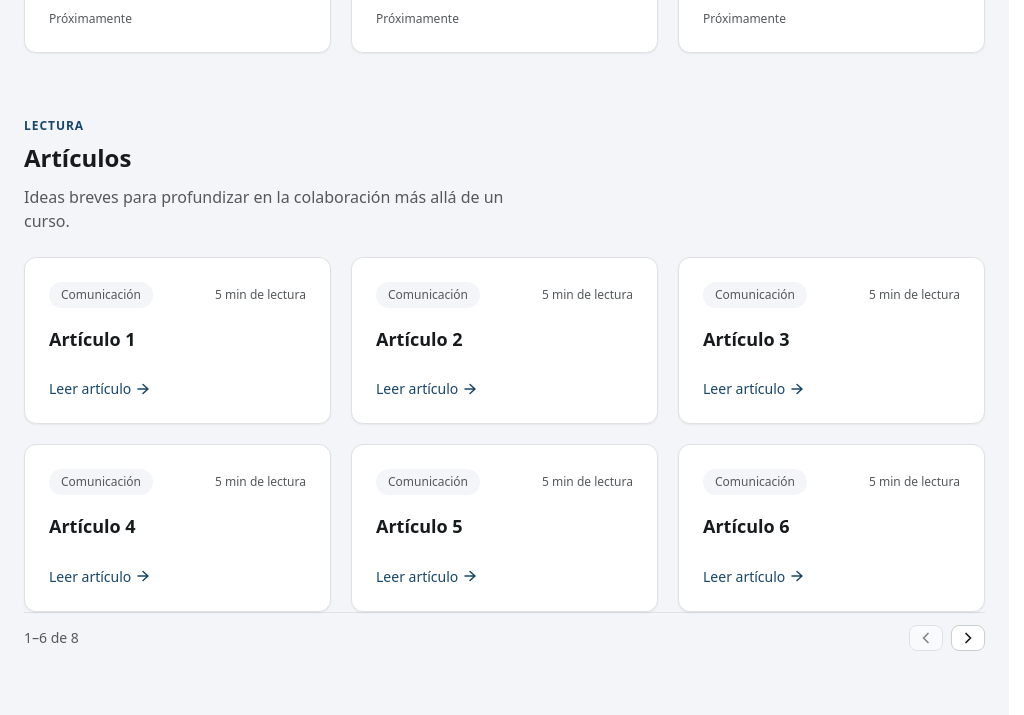
Test: PantallaRecursos › pagina los artículos y vuelve a la primera página al cambiar un filtro
This screenshot has width=1024, height=715.
(page scrolled)
Step 1. Click the button named "Siguiente" → (968, 638), box 951,624 -> 985,650
(page scrolled)
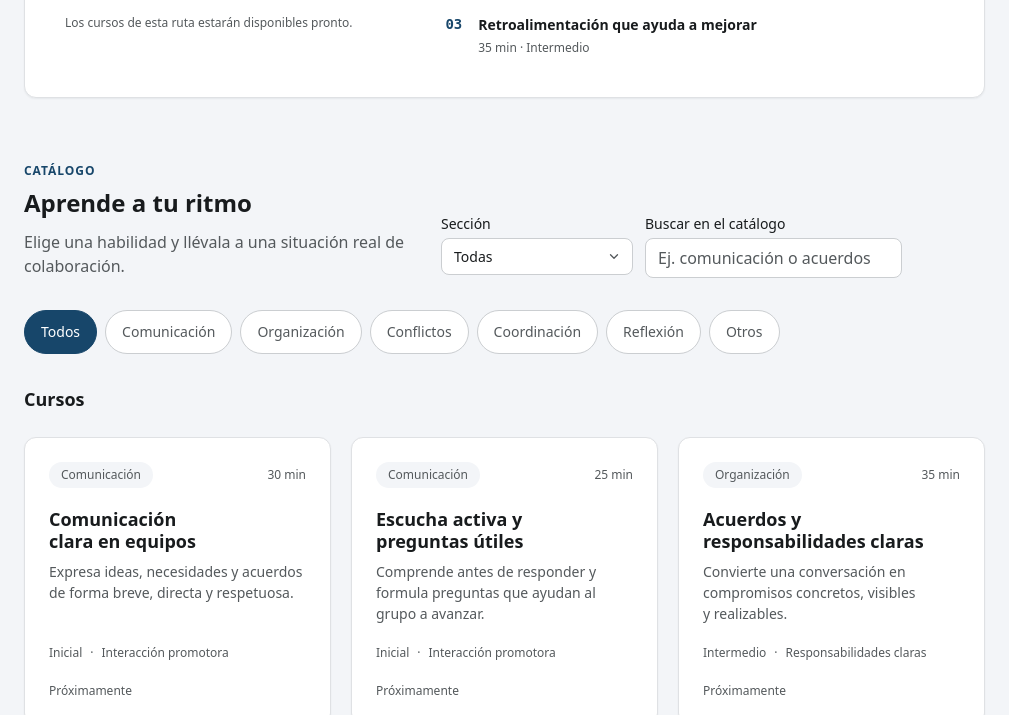
Check: the heading "Artículo 1" is gone
Step 2. Click the button "Comunicación" → (169, 332), box 105,310 -> 232,354
(page scrolled)
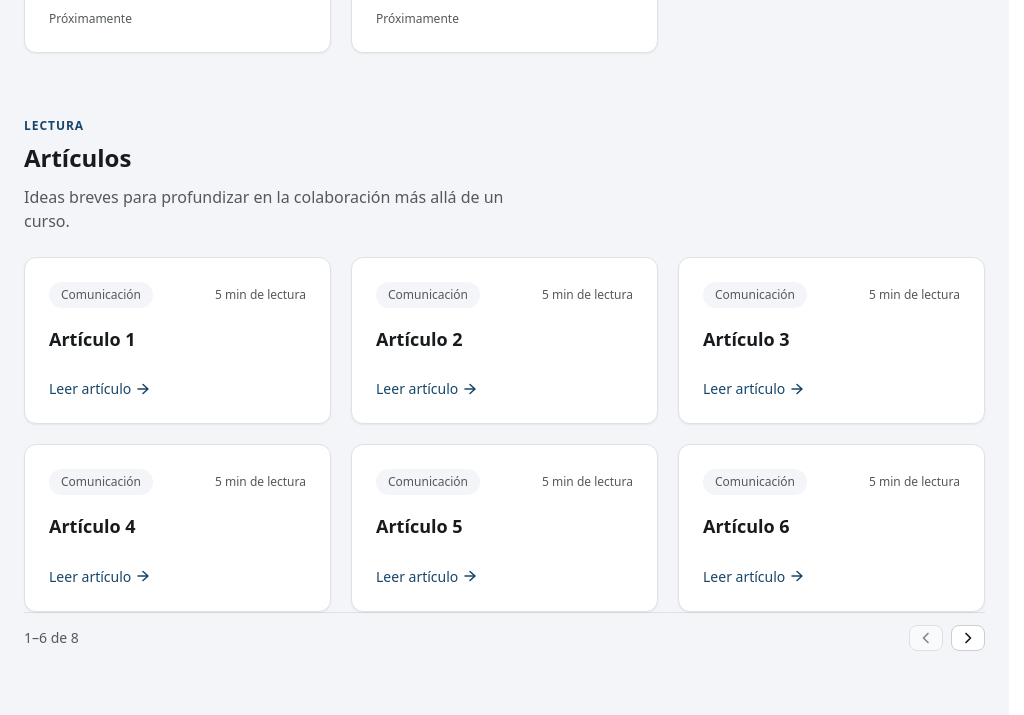
Check: the heading "Artículo 1" is shown, box 49,326 -> 136,350
